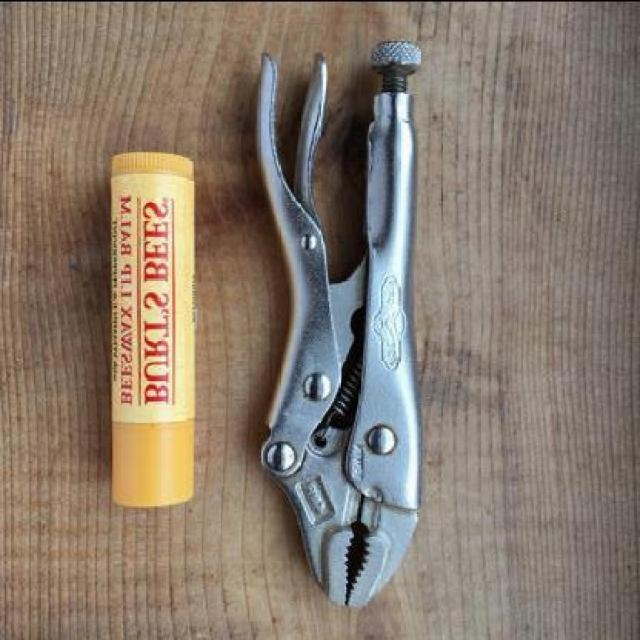pliers: (243, 37, 422, 608)
